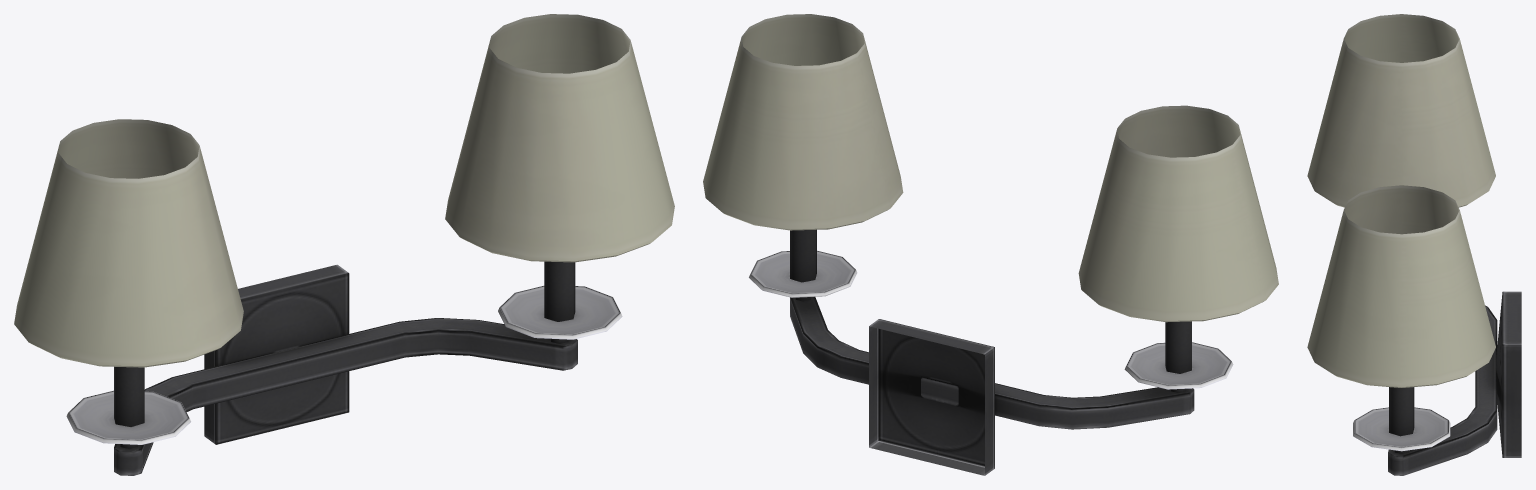
File: WallLamp03.FBX
3 renders of one model, left to right at view 1: azimuth 30°, elevation 25°; view 2: azimuth 150°, elevation 25°; view 3: azimuth 270°, elevation 25°, orthographic. The views are drawn at different scales.
Parts seen in each view (by area): view 1: WallLamp03; view 2: WallLamp03; view 3: WallLamp03.
Part boxes in pixels (x1,y1,x2,y2): WallLamp03: (14, 14, 674, 475); WallLamp03: (703, 14, 1278, 475); WallLamp03: (1307, 14, 1521, 475).
Bounding box in the file's own units: 49.09 × 17.7 × 28.04.
